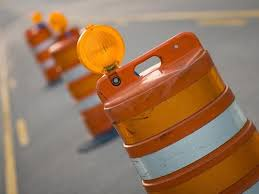barrel: (109, 33, 259, 192), (51, 36, 136, 133), (22, 24, 62, 82)
